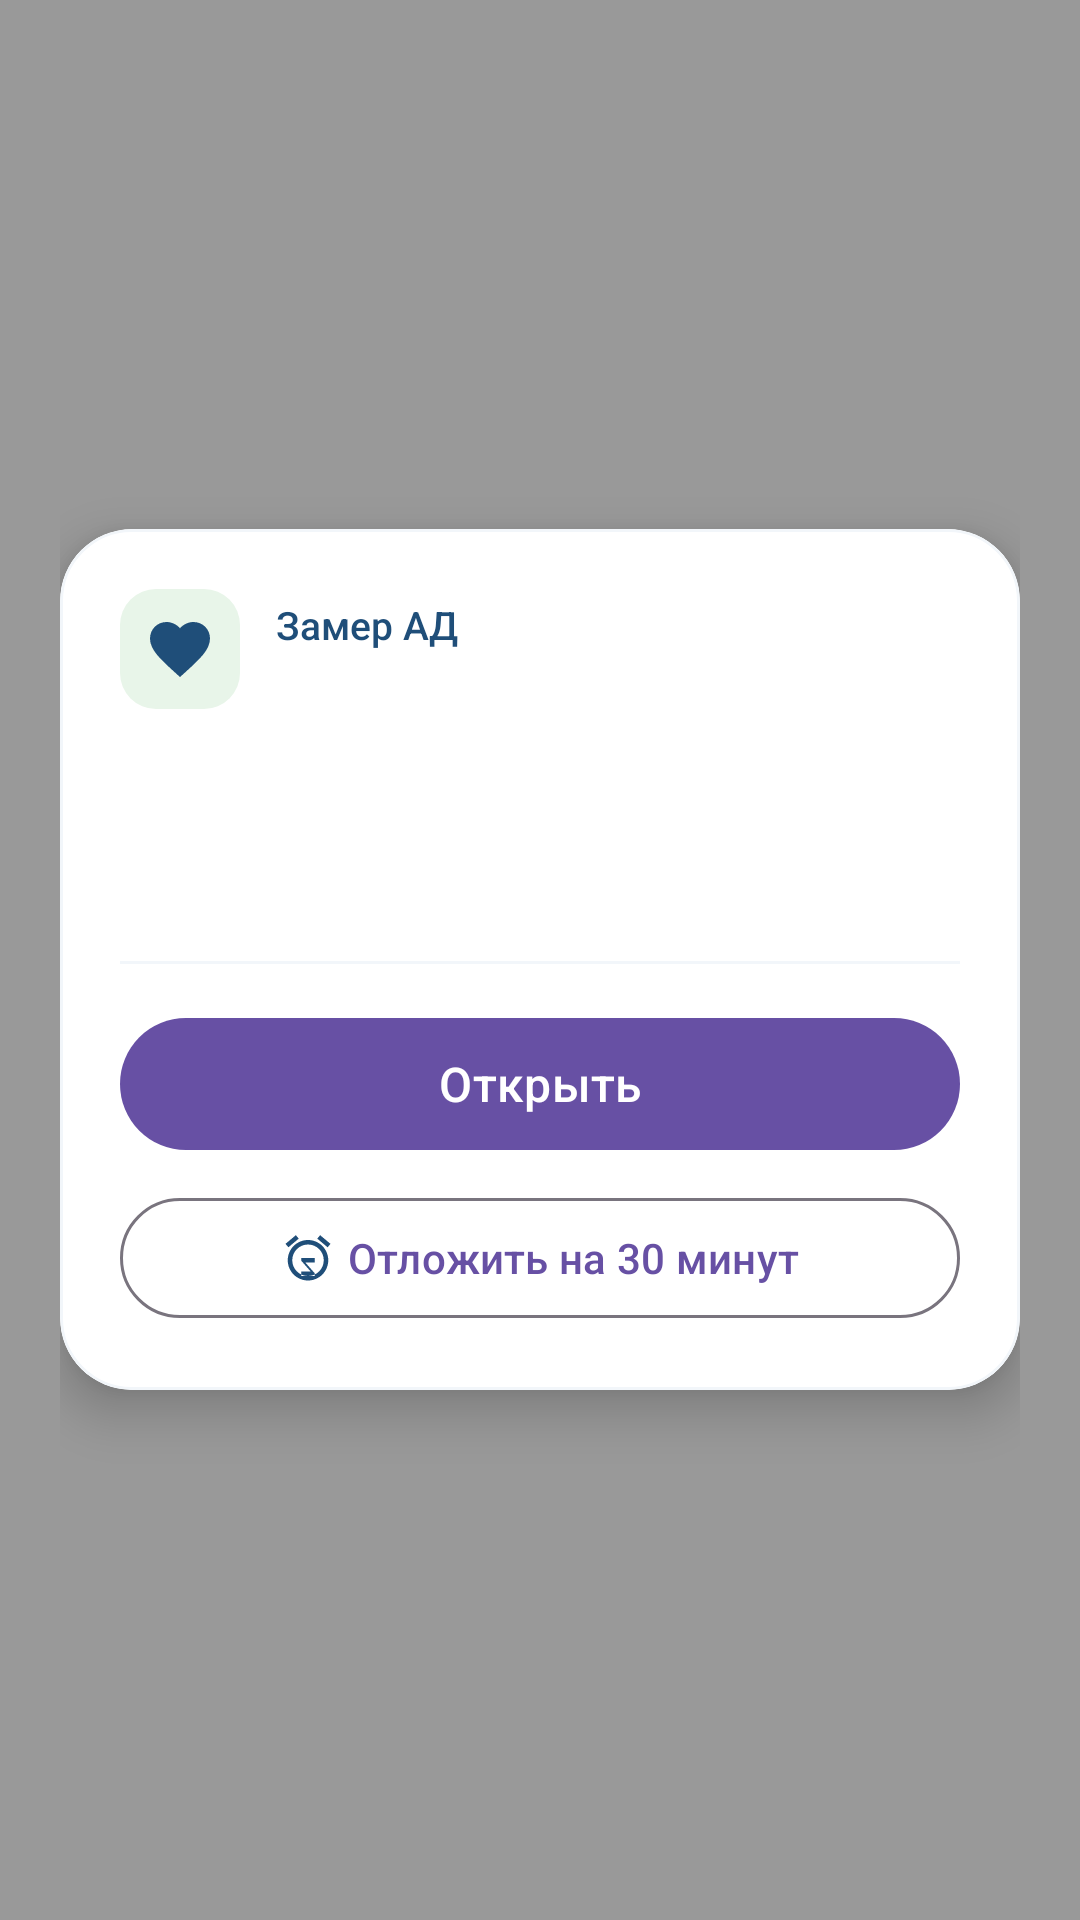

Icon click points for this 1080*1920 phone screenshot, format (x,y):
heart: (180,649)
